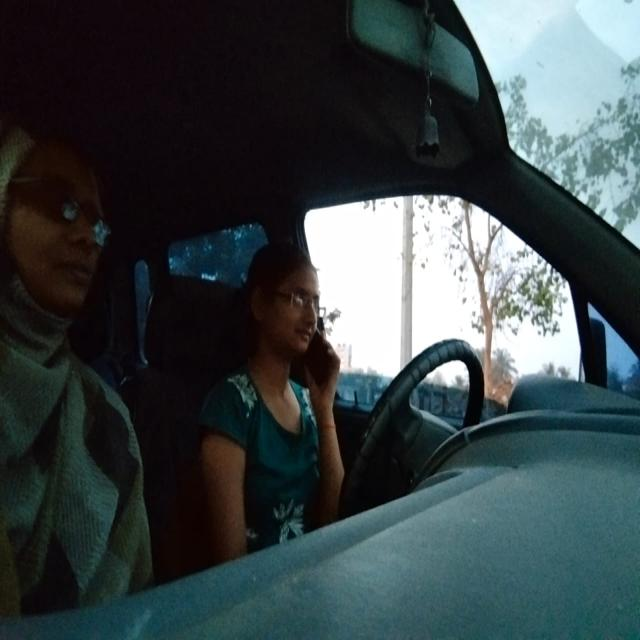mobile: (300, 324, 340, 389)
person: (2, 116, 122, 316), (240, 240, 325, 358)
